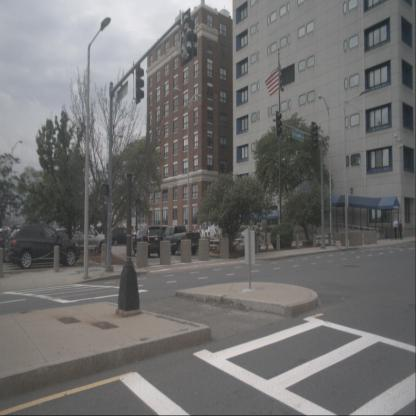human-pedestrian-adult: (392, 216, 398, 240), (399, 219, 404, 240)
vehicle-car: (8, 223, 80, 269), (130, 225, 165, 259), (109, 226, 133, 247), (240, 226, 263, 242)
vehicle-truck: (59, 223, 106, 254), (157, 226, 199, 255), (201, 220, 229, 240)
